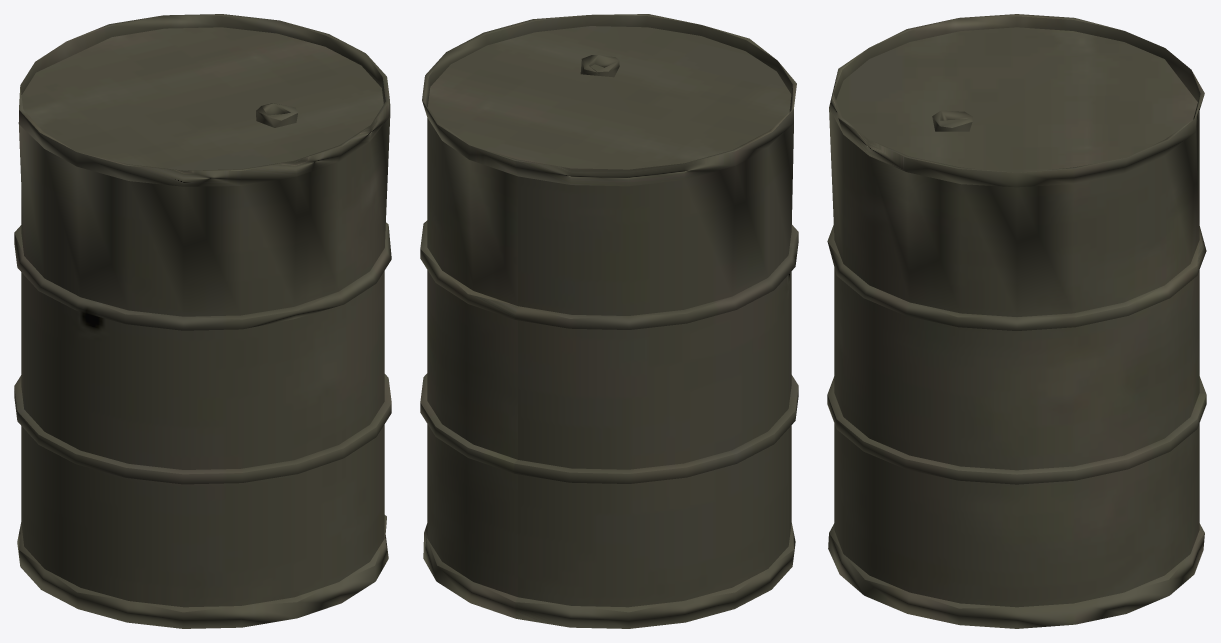
File: mb-barrel-green.lod0.glb
3 renders of one model, left to right at view 1: azimuth 30°, elevation 25°; view 2: azimuth 150°, elevation 25°; view 3: azimuth 270°, elevation 25°, orthographic.
Parts seen in each view (by area): view 1: barrel_green; view 2: barrel_green; view 3: barrel_green.
Boxes of the visible parts, x1,y1,x2,y2 form: barrel_green: [14, 14, 391, 628]; barrel_green: [420, 14, 798, 628]; barrel_green: [827, 14, 1206, 628].
Size of the model in its own units: 0.6609 by 0.8784 by 0.6609.
1 material, 1 textured.
